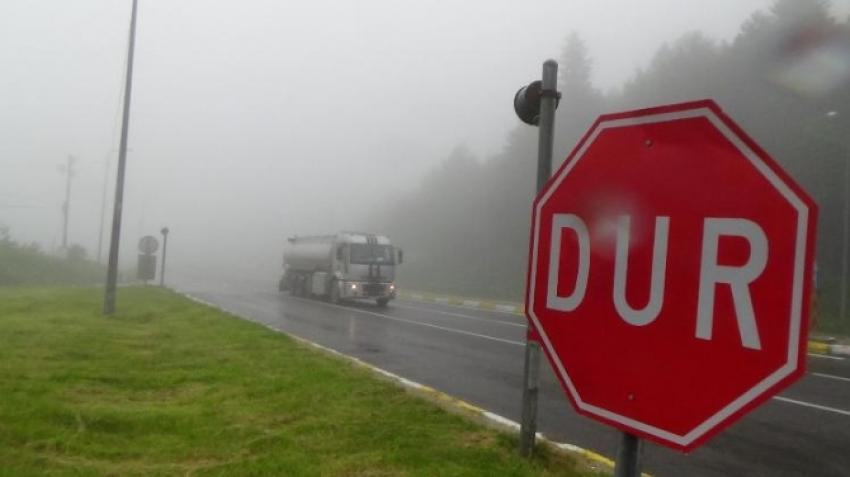dur: (520, 100, 809, 455)
kamyon: (268, 225, 423, 332)
